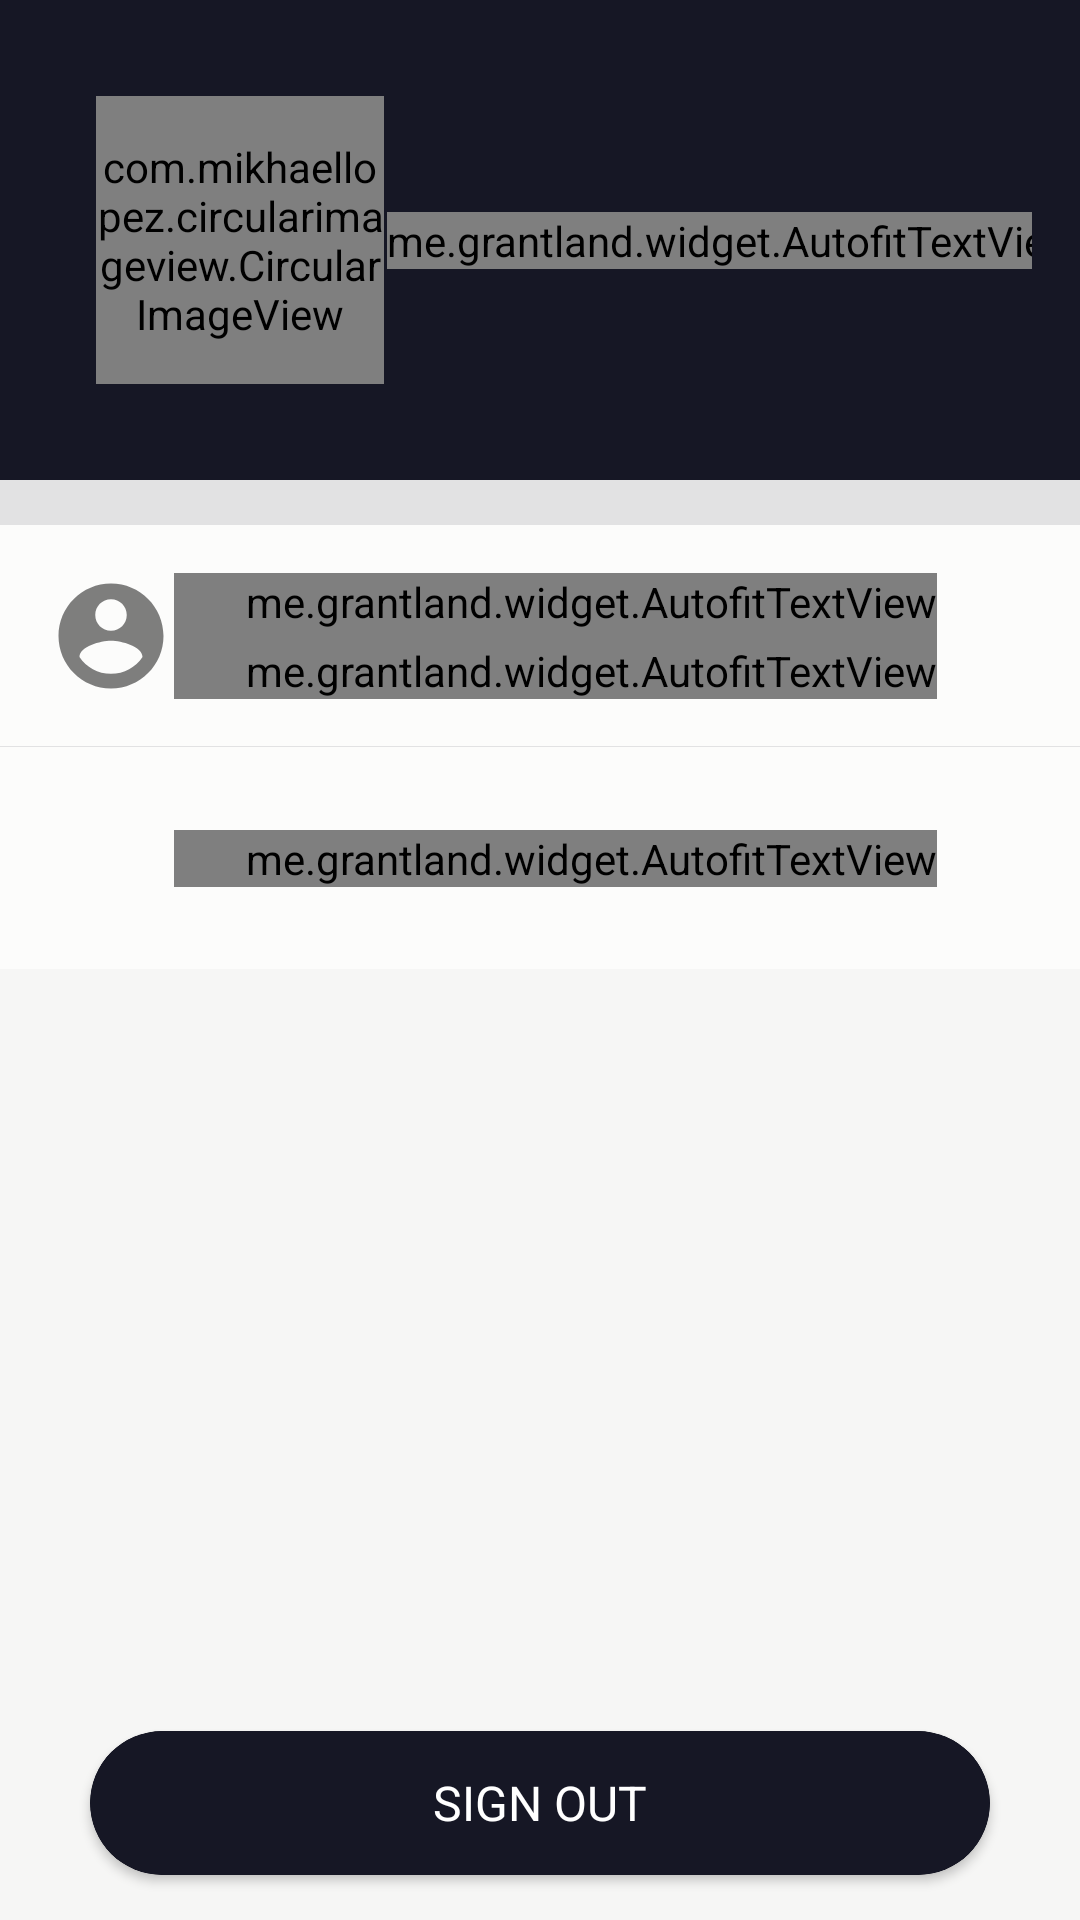

Screen size 1080x1920. Icon name, then its center in pixels as [x,y]:
account: [111,636]
